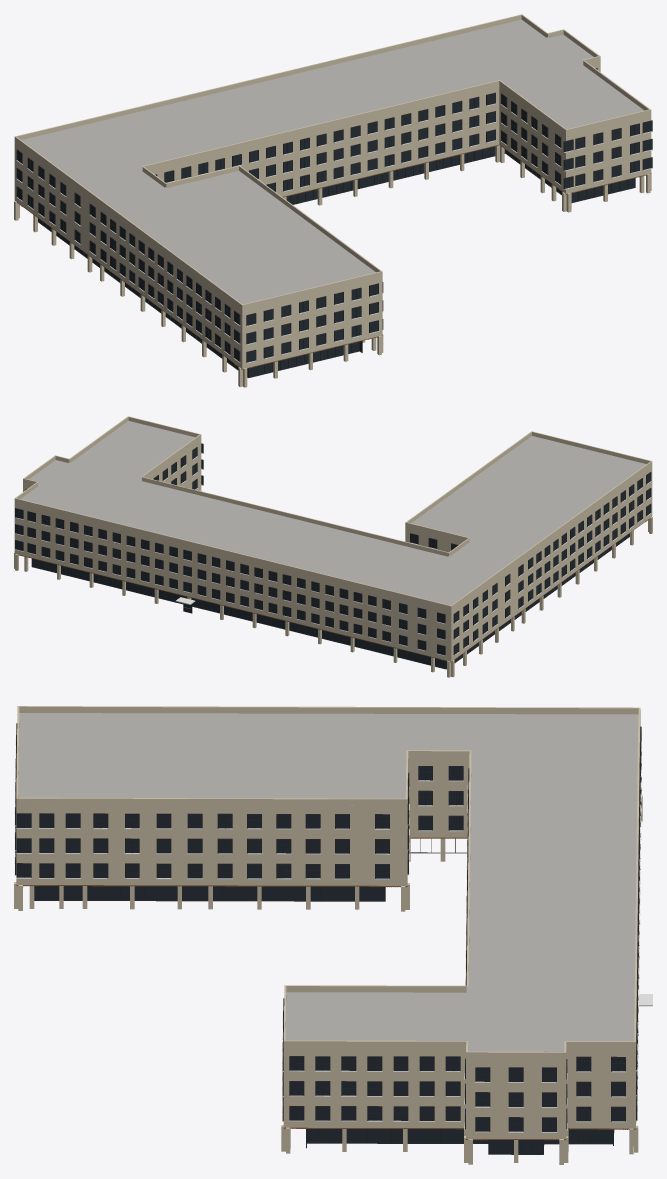
File: sciences_building.glb
3 views of the same model, one above another, from view 1: azimuth 30°, elevation 25°; view 2: azimuth 150°, elevation 25°; view 3: azimuth 270°, elevation 25° (orthographic). The views are drawn at different scales.
Parts seen in each view (by area): view 1: sciences_building_Roof_Membrane, sciences_building_Wall_limestone, sciences_building_Glass_dark, sciences_building_Frame_Dark, sciences_building_Trim_White, sciences_building_Wood_Soffit; view 2: sciences_building_Roof_Membrane, sciences_building_Wall_limestone, sciences_building_Glass_dark, sciences_building_Frame_Dark, sciences_building_Trim_White, sciences_building_Wood_Soffit; view 3: sciences_building_Roof_Membrane, sciences_building_Wall_limestone, sciences_building_Glass_dark, sciences_building_Frame_Dark, sciences_building_Trim_White, sciences_building_Wood_Soffit.
Part boxes in pixels (left/top/right/bottom): sciences_building_Roof_Membrane: left=21, top=19, right=644, bottom=304; sciences_building_Wall_limestone: left=14, top=14, right=651, bottom=387; sciences_building_Glass_dark: left=17, top=69, right=651, bottom=377; sciences_building_Frame_Dark: left=16, top=68, right=652, bottom=377; sciences_building_Trim_White: left=16, top=103, right=652, bottom=363; sciences_building_Wood_Soffit: left=17, top=144, right=650, bottom=369; sciences_building_Roof_Membrane: left=20, top=421, right=646, bottom=605; sciences_building_Wall_limestone: left=14, top=416, right=652, bottom=677; sciences_building_Glass_dark: left=15, top=444, right=650, bottom=668; sciences_building_Frame_Dark: left=15, top=443, right=651, bottom=669; sciences_building_Trim_White: left=15, top=453, right=651, bottom=655; sciences_building_Wood_Soffit: left=14, top=518, right=650, bottom=662; sciences_building_Roof_Membrane: left=18, top=713, right=638, bottom=1051; sciences_building_Wall_limestone: left=14, top=706, right=642, bottom=1164; sciences_building_Glass_dark: left=17, top=767, right=625, bottom=1153; sciences_building_Frame_Dark: left=15, top=723, right=641, bottom=1154; sciences_building_Trim_White: left=14, top=738, right=652, bottom=1132; sciences_building_Wood_Soffit: left=16, top=837, right=636, bottom=1140.
Bounding box in the file's own units: 109 × 16.34 × 84.76.
